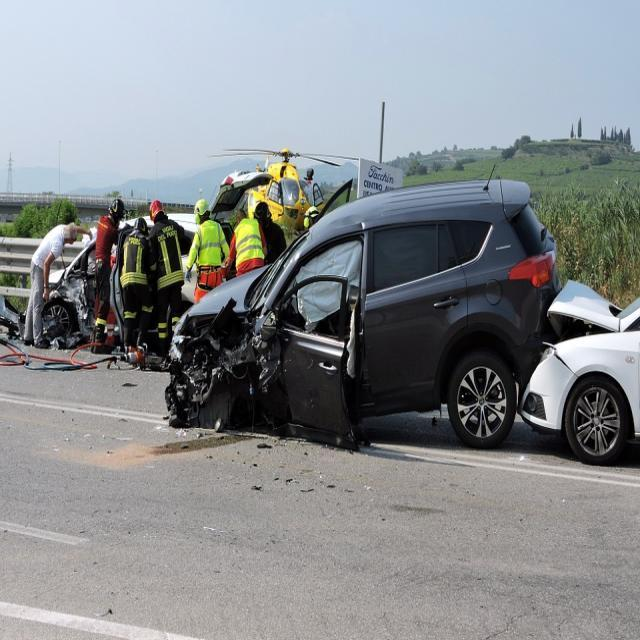car Accident: (120, 174, 505, 449)
